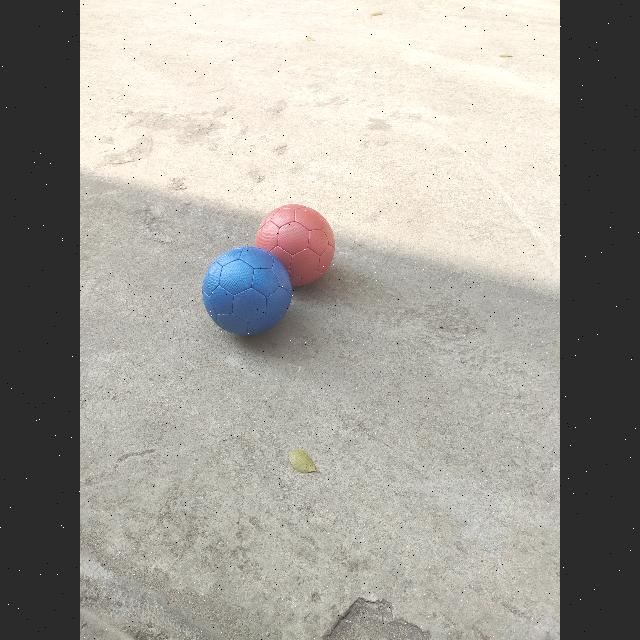B: (202, 247, 294, 340)
R: (254, 205, 336, 289)
